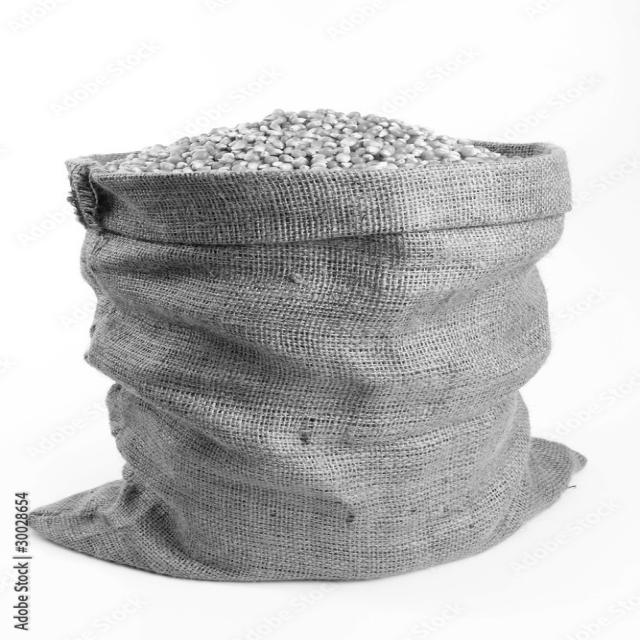sack: (27, 109, 588, 582)
